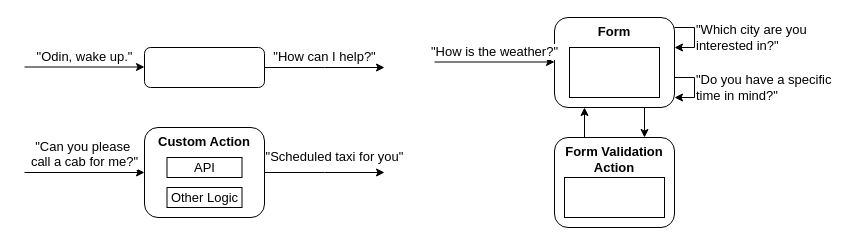
Some shapes in this 853 by 245 pixel diagram are drawn without their labels. Here are the shapes that lost their labels. From the top down, the centre of each, then its label:
At pixel 204 67: "Response".
At pixel 614 72: "Required slots: - city - time".
At pixel 614 197: "Validation Business Logic".
